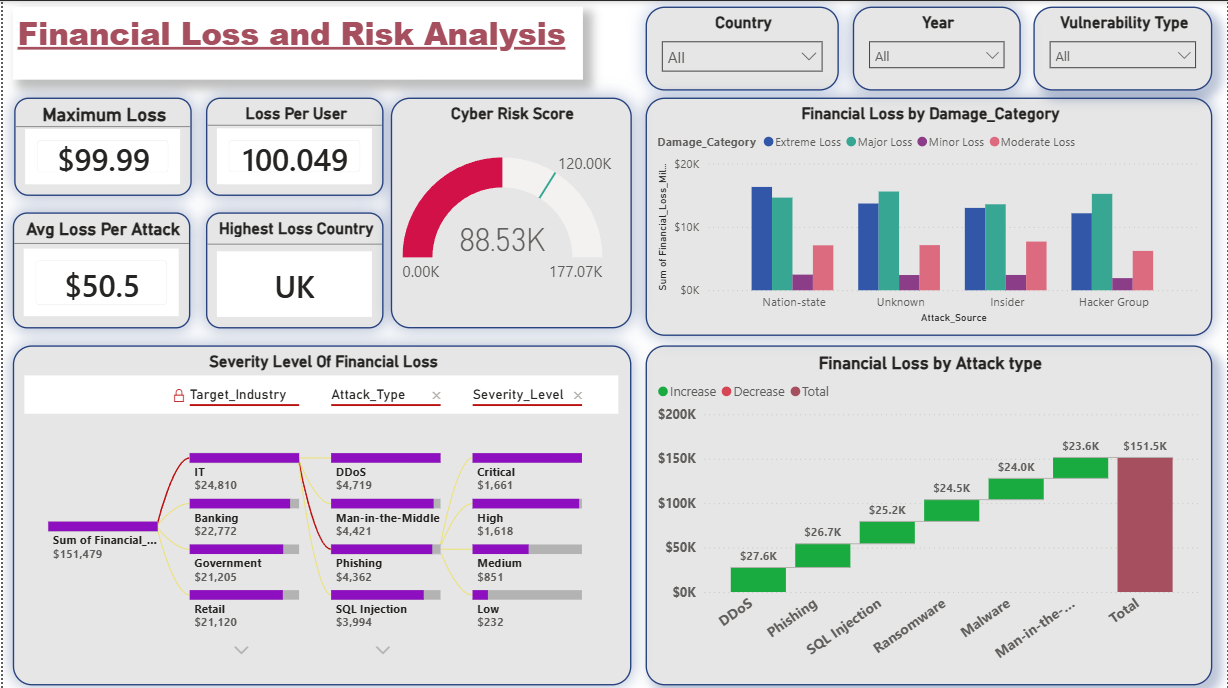

The dashboard page shown, as its layout file describes it:
{"tool":"powerbi","page":{"name":"Page 3","canvas":[1280,720],"ordinal":2},"visuals":[{"type":"waterfallChart","title":"Financial Loss by Attack type","fields":{"Category":["cybersecuritydb global_cybersecurity.Attack_Type"],"Y":["Sum(cybersecuritydb global_cybersecurity.Financial_Loss_Million)"]},"box":[672.3,360.3,593.2,355.9],"z":0},{"type":"cardVisual","title":"Maximum Loss","fields":{"Data":["cybersecuritydb global_cybersecurity.Highest Financial Loss"]},"box":[11.7,101.1,186,102.5],"z":1000},{"type":"cardVisual","title":"Avg Loss Per Attack","fields":{"Data":["cybersecuritydb global_cybersecurity.Avg Loss Per Attack"]},"box":[10.3,221.2,186,121.6],"z":2000},{"type":"cardVisual","title":"Loss Per User","fields":{"Data":["cybersecuritydb global_cybersecurity.Loss Per 1000 Users"]},"box":[212.4,101.1,186,102.5],"z":3000},{"type":"cardVisual","title":"Highest Loss Country","fields":{"Data":["cybersecuritydb global_cybersecurity.Most Financial Loss Country"]},"box":[212.4,221.2,186,121.6],"z":4000},{"type":"decompositionTreeVisual","title":"Severity Level Of Financial Loss","fields":{"Analyze":["Sum(cybersecuritydb global_cybersecurity.Financial_Loss_Million)"],"ExplainBy":["cybersecuritydb global_cybersecurity.Target_Industry","cybersecuritydb global_cybersecurity.Attack_Type","cybersecuritydb global_cybersecurity.Severity_Level"]},"box":[10.3,360.3,647.4,355.9],"z":5000},{"type":"slicer","title":"Country","fields":{"Values":["cybersecuritydb global_cybersecurity.Country"]},"box":[672.3,5.9,202.1,87.9],"z":6000},{"type":"clusteredColumnChart","title":"Financial Loss by Damage_Category","fields":{"Y":["Sum(cybersecuritydb global_cybersecurity.Financial_Loss_Million)"],"Category":["cybersecuritydb global_cybersecurity.Attack_Source"],"Series":["cybersecuritydb global_cybersecurity.Damage_Category"]},"box":[672.3,101.1,593.2,249],"z":7000},{"type":"gauge","title":"Cyber Risk Score","fields":{"Y":["Sum(cybersecuritydb global_cybersecurity.Cyber_Risk_Score)"]},"box":[405.7,101.1,251.9,241.7],"z":8000},{"type":"textbox","box":[10.3,5.9,596.1,76.2],"z":9000},{"type":"slicer","title":"Vulnerability Type","fields":{"Values":["cybersecuritydb global_cybersecurity.Vulnerability_Type"]},"box":[1078,5.9,187.5,87.9],"z":10000},{"type":"slicer","title":"Year","fields":{"Values":["cybersecuritydb global_cybersecurity.Year"]},"box":[889,5.9,175.8,87.9],"z":11000}]}

Visuals, with their boxes in screenshot pixels (x1, y1, x2, y2), scaled from the page's 1280x720 canvas onto the 1228x688 screenshot:
"Financial Loss by Attack type" waterfallChart: 645:344:1214:684
"Maximum Loss" cardVisual: 11:97:190:195
"Avg Loss Per Attack" cardVisual: 10:211:188:328
"Loss Per User" cardVisual: 204:97:382:195
"Highest Loss Country" cardVisual: 204:211:382:328
"Severity Level Of Financial Loss" decompositionTreeVisual: 10:344:631:684
"Country" slicer: 645:6:839:90
"Financial Loss by Damage_Category" clusteredColumnChart: 645:97:1214:335
"Cyber Risk Score" gauge: 389:97:631:328
textbox: 10:6:582:78
"Vulnerability Type" slicer: 1034:6:1214:90
"Year" slicer: 853:6:1022:90
